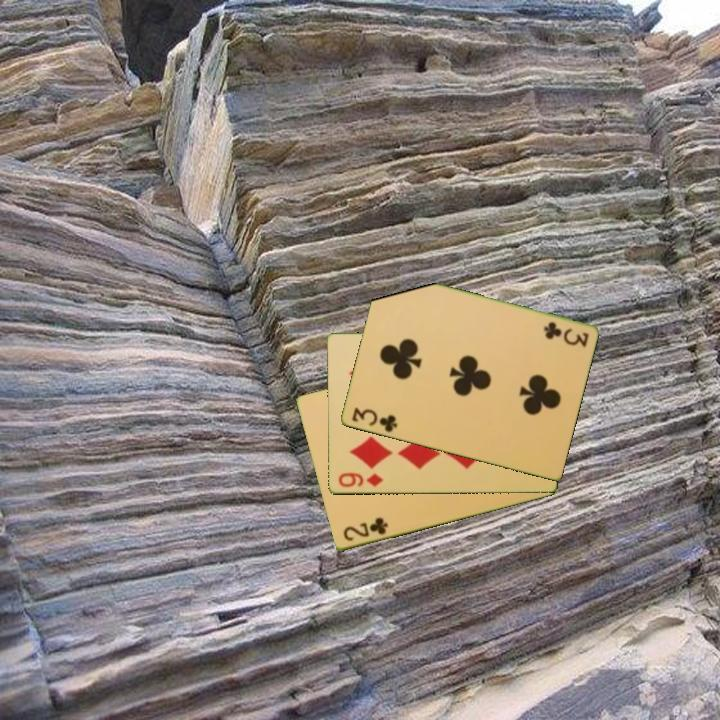2c: (339, 514, 391, 544)
3c: (348, 404, 400, 435), (540, 318, 591, 349)
9d: (335, 469, 386, 490)
